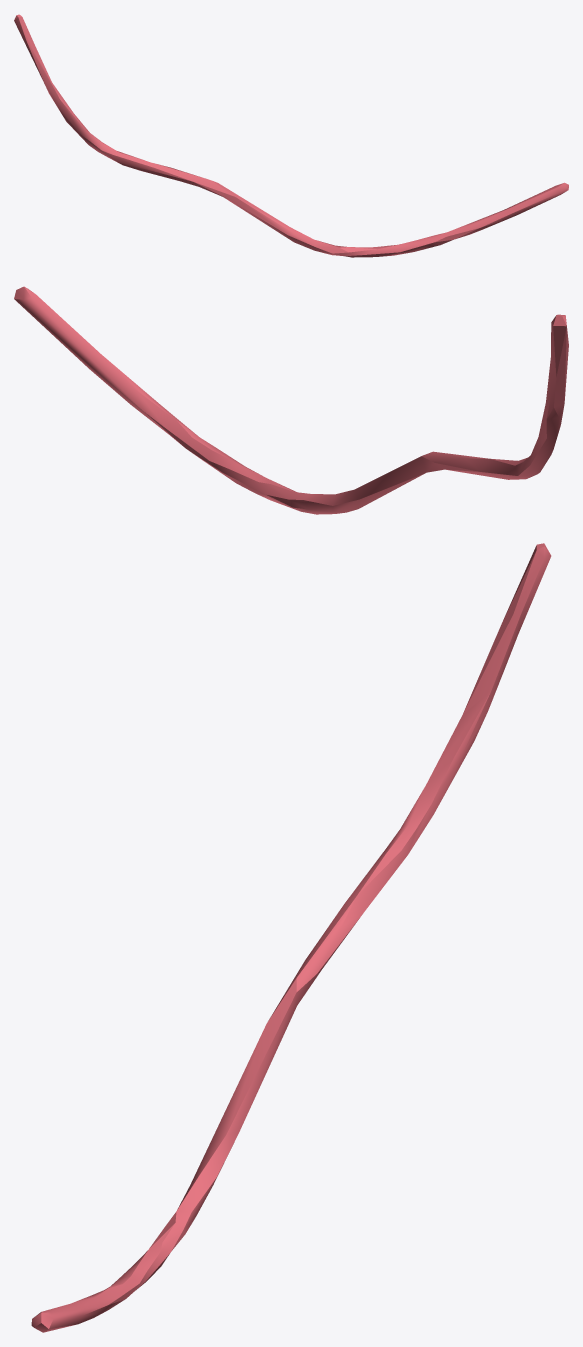
Rendered from fma50021_fj5097.glb.
3 renders of one model, top to bottom at view 1: azimuth 30°, elevation 25°; view 2: azimuth 150°, elevation 25°; view 3: azimuth 270°, elevation 25°, orthographic. The views are drawn at different scales.
Parts seen in each view (by area): view 1: FMA50021_FJ5097; view 2: FMA50021_FJ5097; view 3: FMA50021_FJ5097.
Part boxes in pixels (<box>): FMA50021_FJ5097: <box>14,14,568,257</box>; FMA50021_FJ5097: <box>14,286,568,514</box>; FMA50021_FJ5097: <box>31,543,551,1332</box>.
Bounding box in the file's own units: 0.0132 × 0.00688 × 0.00693.
